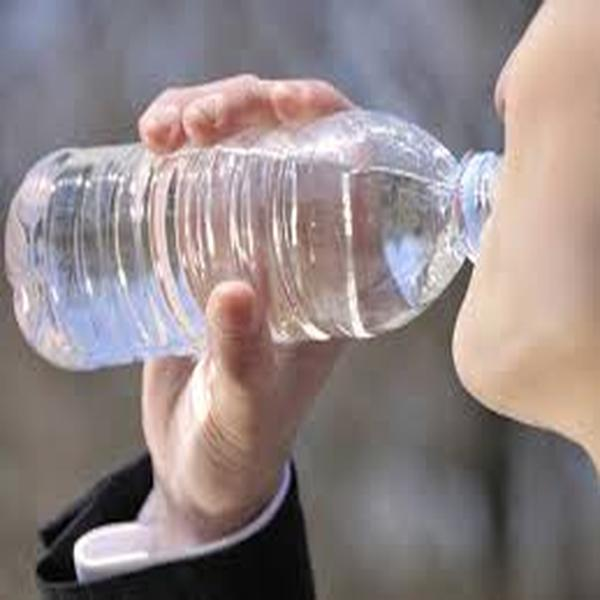tutuma: (5, 103, 512, 378)
